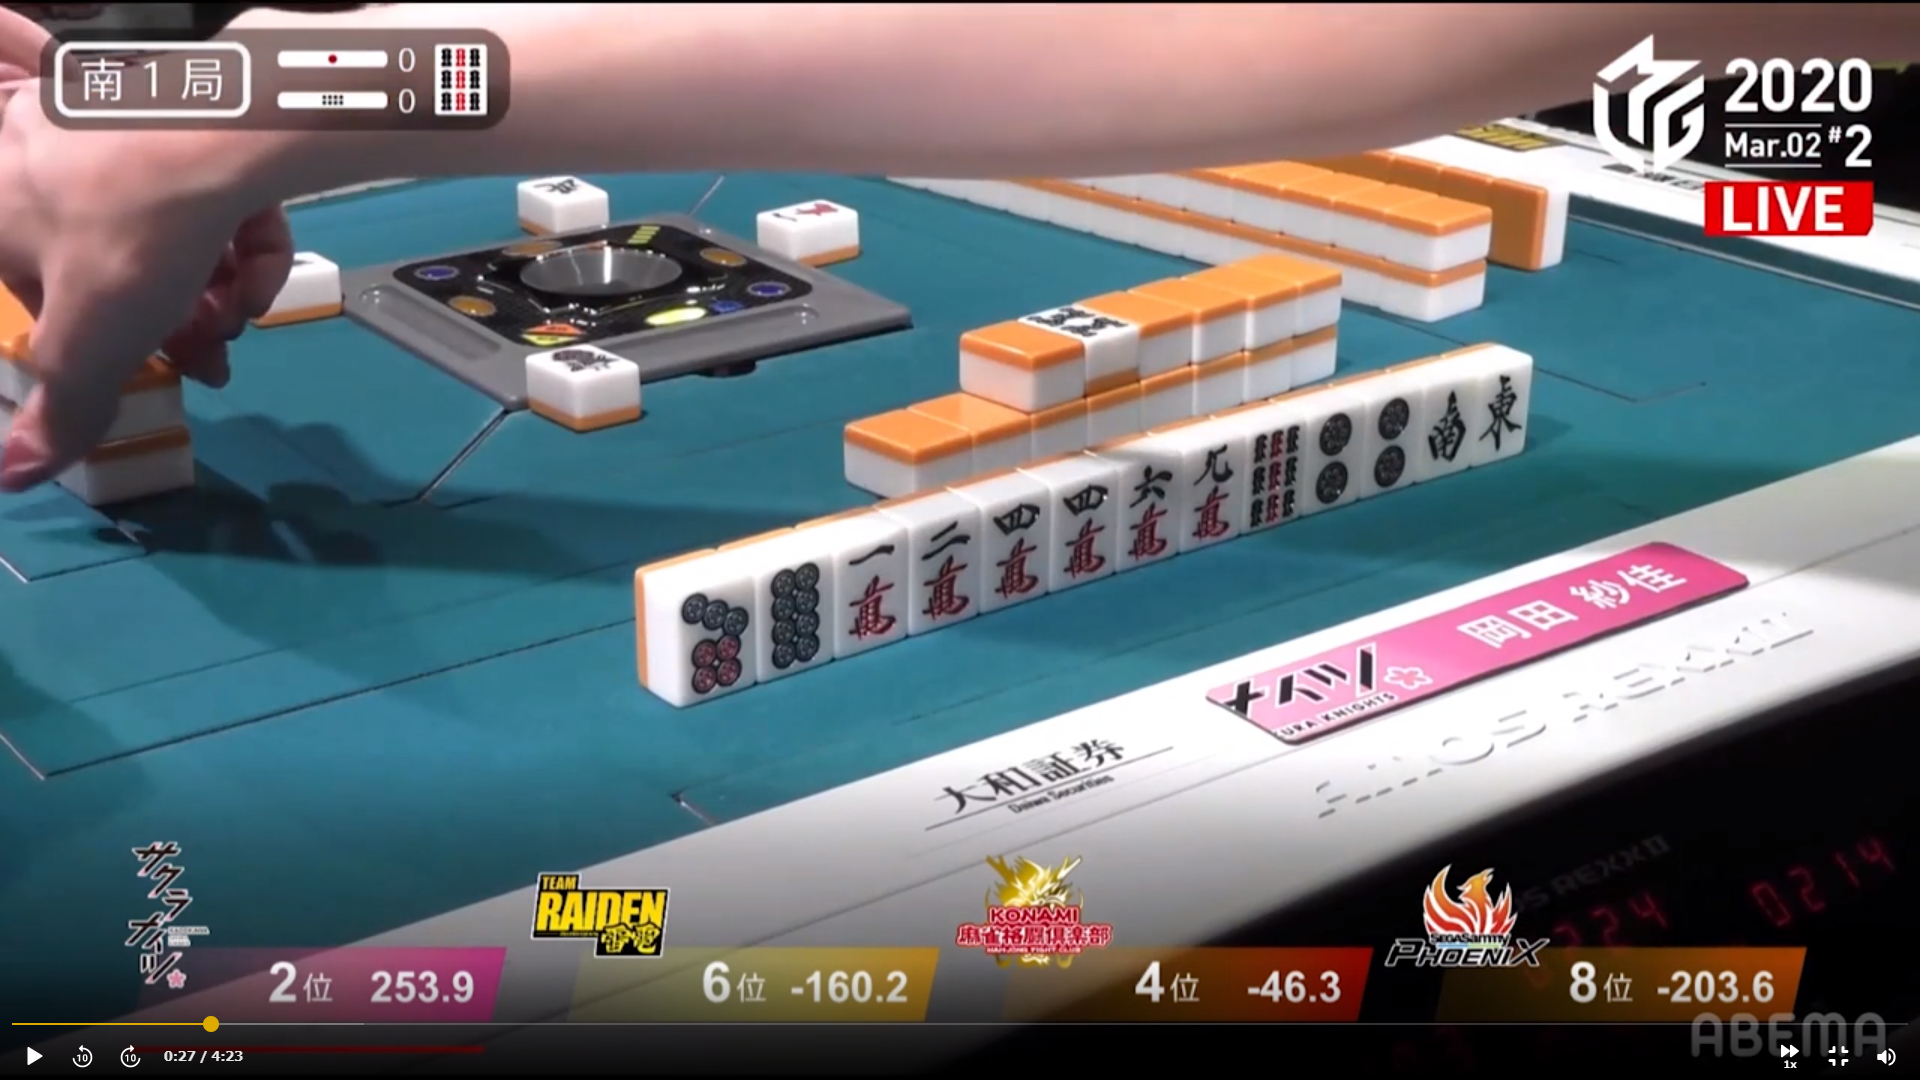2p: (916, 495, 978, 628)
3m: (758, 538, 832, 682)
3p: (978, 473, 1050, 617)
4m: (835, 517, 910, 657)
6p: (1048, 454, 1112, 587), (1472, 336, 1528, 459)
chun: (589, 578, 673, 744), (673, 562, 758, 721)
haku: (1174, 417, 1244, 550)
hand_ton_4: (47, 36, 260, 124)
hatsu: (1240, 396, 1304, 529)
nan: (1420, 352, 1476, 475)
pei: (1303, 377, 1365, 513)
round_0: (268, 82, 427, 120)
sha: (1364, 363, 1418, 495)
team_kadokawa: (1187, 625, 1443, 749)
